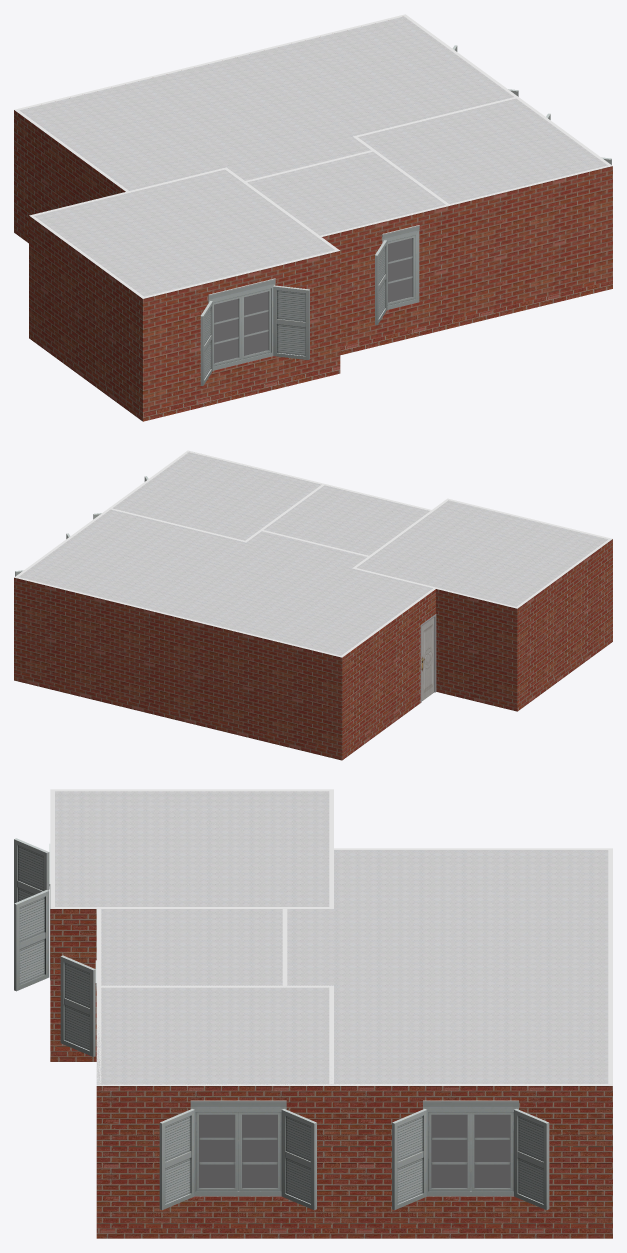
File: house_0110200.FBX
The picture shows the model from 3 angles, top to bottom: view 1: azimuth 30°, elevation 25°; view 2: azimuth 150°, elevation 25°; view 3: azimuth 270°, elevation 25°; orthographic projection. The views are drawn at different scales.
Parts seen in each view (by area): view 1: house_0110200_roof_100_00, house_0110200_outwall_100_06, house_0110200_outwall_100_04, house_0110200_outwall_100_03, house_0110200_floor_102_00, house_0110200_outwall_100_01, house_0110200_floor_103_00, house_0110200_tcx_100_06, house_0110200_tcx_100_04, house_0110200_inneredge_100_00, house_0110200_tcx_100_03, house_0110200_outedge_100_00 (+2 smaller); view 2: house_0110200_roof_100_00, house_0110200_outwall_100_00, house_0110200_outwall_100_03, house_0110200_outwall_100_01, house_0110200_outwall_100_02, house_0110200_tcx_100_00, house_0110200_outwall_101_01, house_0110200_inneredge_100_00, house_0110200_tcx_100_03, house_0110200_outedge_100_00, house_0110200_tcx_100_02, house_0110200_tcx_100_01 (+2 smaller); view 3: house_0110200_roof_100_00, house_0110200_outwall_100_07, house_0110200_floor_104_00, house_0110200_floor_101_00, house_0110200_tcx_100_07, house_0110200_floor_102_00, house_0110200_outwall_100_05, house_0110200_floor_103_00, house_0110200_inneredge_100_00, house_0110200_outedge_100_00, house_0110200_outedge_100_07, house_0110200_outedge_100_06 (+1 smaller).
Part boxes in pixels (x1=…): house_0110200_roof_100_00: x1=19, y1=16, x2=607, y2=296; house_0110200_outwall_100_06: x1=322, y1=166, x2=612, y2=346; house_0110200_outwall_100_04: x1=143, y1=251, x2=340, y2=413; house_0110200_outwall_100_03: x1=29, y1=216, x2=142, y2=412; house_0110200_floor_102_00: x1=200, y1=278, x2=309, y2=385; house_0110200_outwall_100_01: x1=14, y1=110, x2=125, y2=234; house_0110200_floor_103_00: x1=375, y1=225, x2=419, y2=325; house_0110200_tcx_100_06: x1=340, y1=280, x2=612, y2=355; house_0110200_tcx_100_04: x1=143, y1=365, x2=340, y2=421; house_0110200_inneredge_100_00: x1=126, y1=97, x2=515, y2=236; house_0110200_tcx_100_03: x1=29, y1=330, x2=142, y2=421; house_0110200_outedge_100_00: x1=14, y1=14, x2=405, y2=110; house_0110200_roof_100_00: x1=18, y1=451, x2=608, y2=655; house_0110200_outwall_100_00: x1=14, y1=577, x2=342, y2=753; house_0110200_outwall_100_03: x1=517, y1=539, x2=612, y2=704; house_0110200_outwall_100_01: x1=342, y1=589, x2=435, y2=753; house_0110200_outwall_100_02: x1=436, y1=589, x2=517, y2=704; house_0110200_tcx_100_00: x1=14, y1=673, x2=342, y2=760; house_0110200_outwall_101_01: x1=420, y1=614, x2=436, y2=702; house_0110200_inneredge_100_00: x1=111, y1=484, x2=435, y2=588; house_0110200_tcx_100_03: x1=517, y1=635, x2=612, y2=711; house_0110200_outedge_100_00: x1=15, y1=577, x2=341, y2=657; house_0110200_tcx_100_02: x1=436, y1=685, x2=517, y2=711; house_0110200_tcx_100_01: x1=342, y1=696, x2=420, y2=759; house_0110200_roof_100_00: x1=55, y1=791, x2=608, y2=1084; house_0110200_outwall_100_07: x1=96, y1=1086, x2=612, y2=1228; house_0110200_floor_104_00: x1=159, y1=1100, x2=316, y2=1210; house_0110200_floor_101_00: x1=392, y1=1100, x2=549, y2=1210; house_0110200_tcx_100_07: x1=96, y1=1228, x2=612, y2=1238; house_0110200_floor_102_00: x1=14, y1=838, x2=50, y2=991; house_0110200_outwall_100_05: x1=50, y1=909, x2=96, y2=1051; house_0110200_floor_103_00: x1=60, y1=955, x2=96, y2=1056; house_0110200_inneredge_100_00: x1=101, y1=848, x2=333, y2=1083; house_0110200_outedge_100_00: x1=608, y1=848, x2=612, y2=1085; house_0110200_outedge_100_07: x1=97, y1=1084, x2=612, y2=1085; house_0110200_outedge_100_06: x1=96, y1=907, x2=101, y2=1085.
Size of the model in its own units: 1270 by 291 by 1030.
43 materials, 42 textured.
